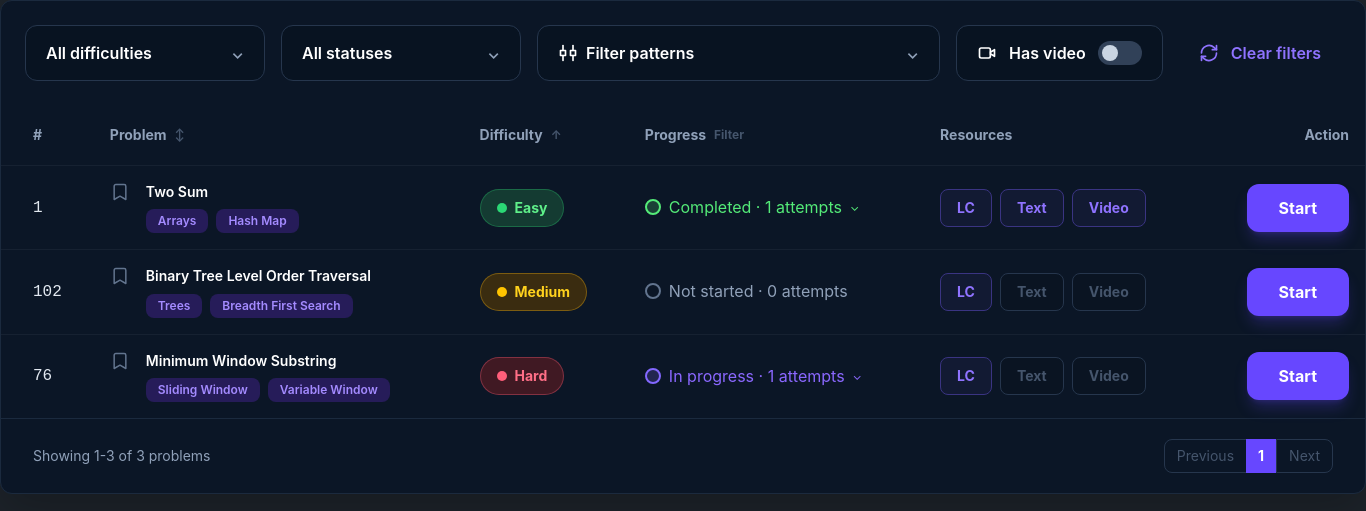
Test case: LeetcodeProblemTable › filters by difficulty and clears filters
Step 1. Click the button "All difficulties ⌄" → {"x": 145, "y": 53}, box [25, 25, 265, 81]
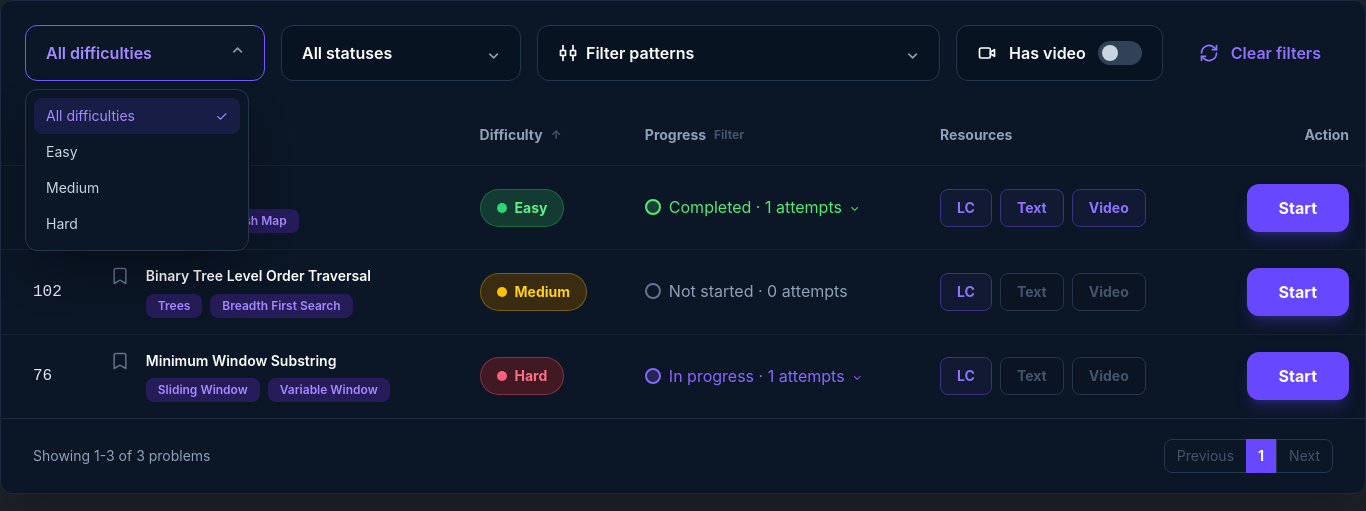
Step 2. Click the menu item "Easy" → {"x": 137, "y": 152}, box [34, 134, 240, 170]
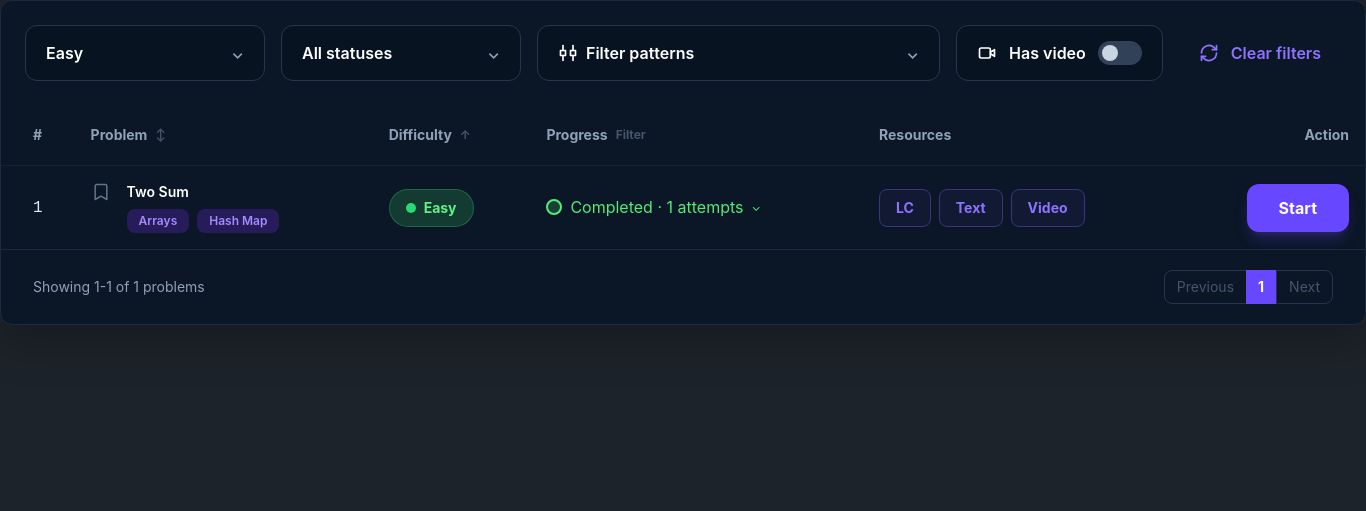
Expected: the row "Two Sum" is shown, [1, 166, 1365, 249]
Now the text "Binary Tree Level Order Traversal" is gone
Step 3. Click the button "Clear filters" → {"x": 1260, "y": 53}, box [1179, 25, 1341, 81]
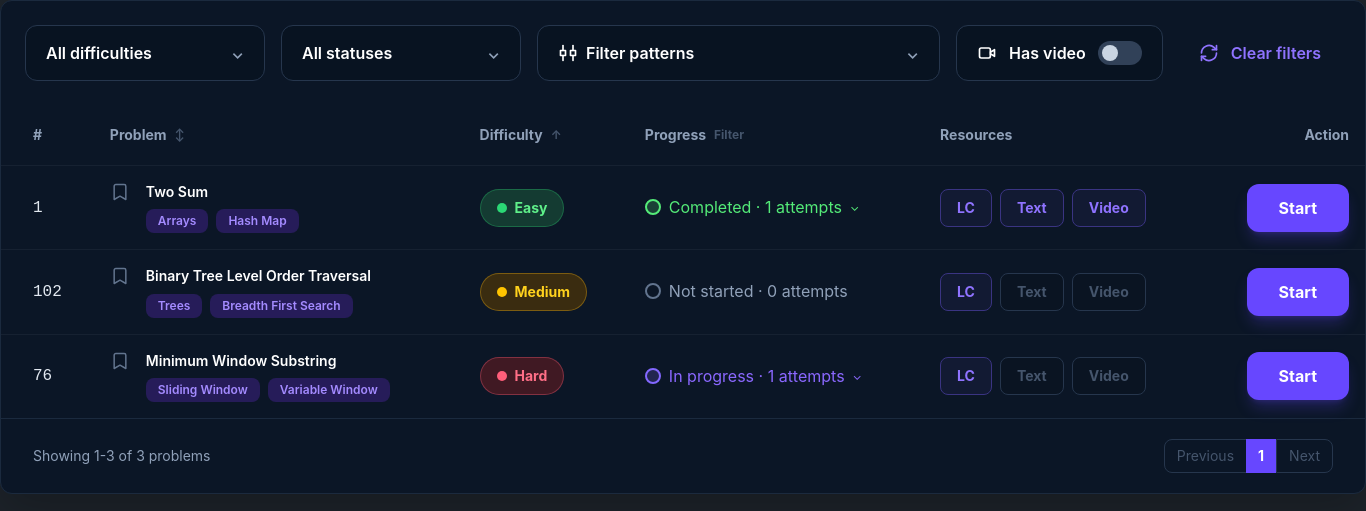
Now the row "Binary Tree Level Order Traversal" is shown, box [1, 250, 1365, 335]
